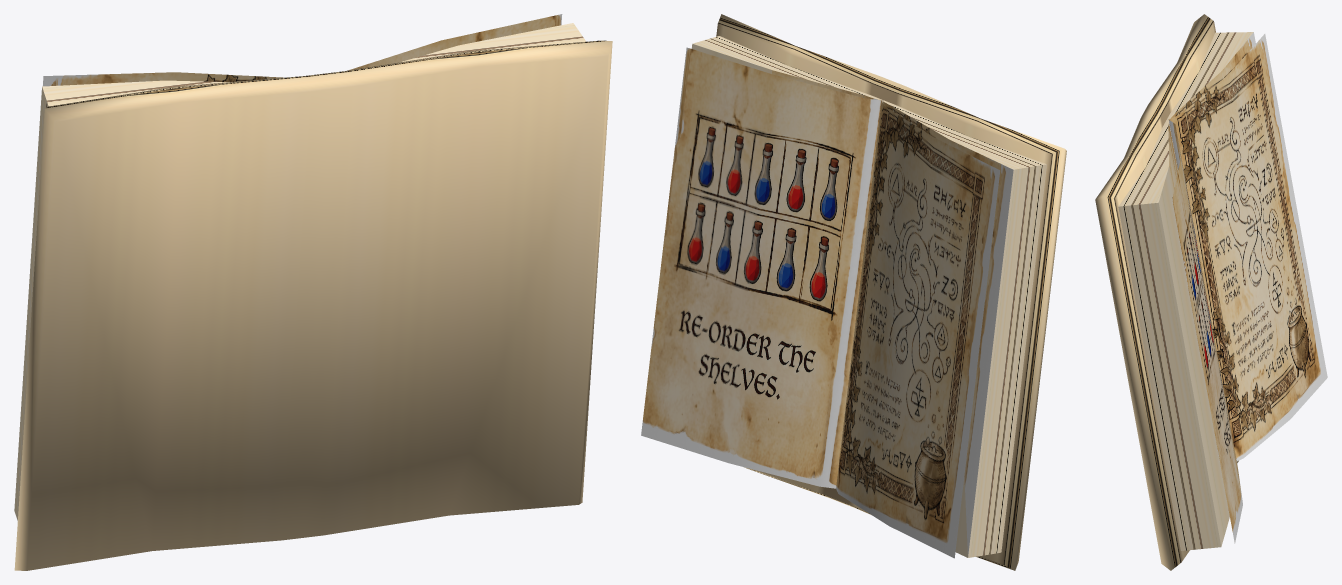
3 views of the same model, side by side, from view 1: azimuth 30°, elevation 25°; view 2: azimuth 150°, elevation 25°; view 3: azimuth 270°, elevation 25° (orthographic). The views are drawn at different scales.
Visible parts, largest first — view 1: Book_Holy_C; view 2: Book_Holy_C; view 3: Book_Holy_C.
Part boxes in pixels (x1=…): Book_Holy_C: x1=14, y1=14, x2=612, y2=570; Book_Holy_C: x1=641, y1=14, x2=1066, y2=570; Book_Holy_C: x1=1095, y1=14, x2=1327, y2=570.
Size of the model in its own units: 212 by 198 by 112.
